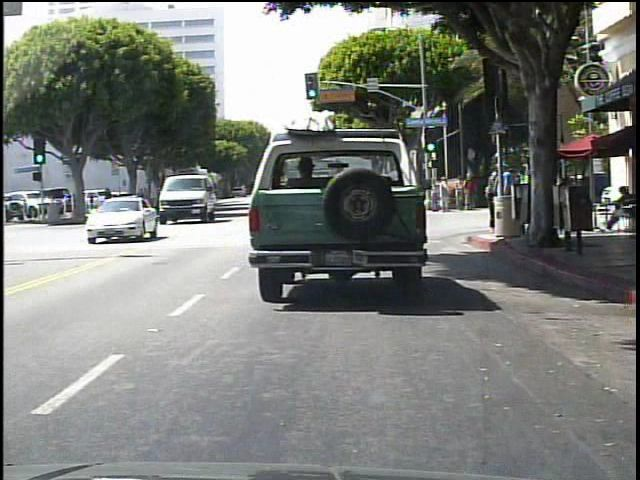person: (601, 182, 636, 233), (499, 164, 517, 233), (520, 167, 538, 224), (489, 168, 503, 231), (489, 169, 503, 219), (535, 163, 549, 213), (466, 169, 477, 209), (440, 176, 451, 212), (456, 175, 467, 210), (430, 181, 441, 213)
